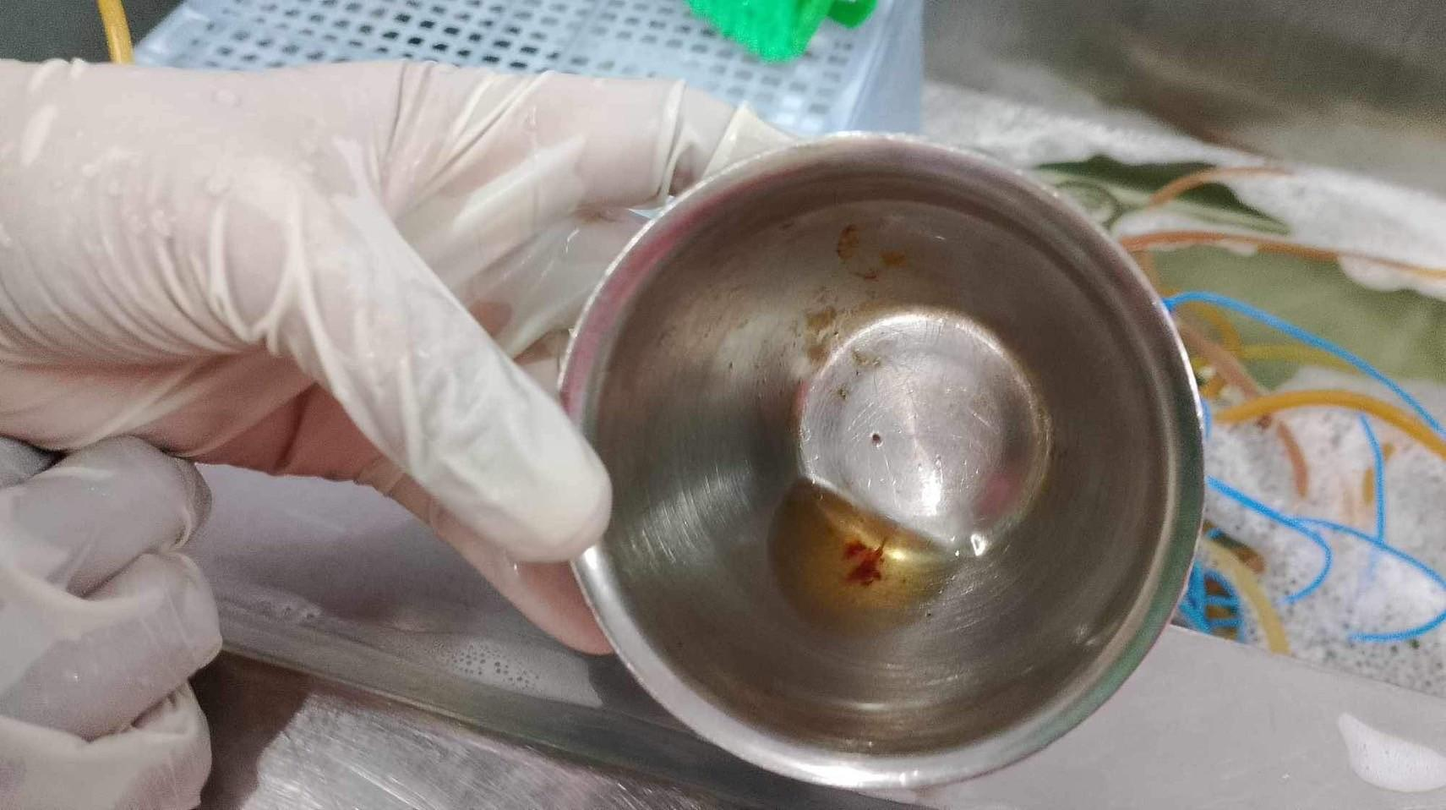General: (551, 128, 1212, 795)
Infectious: (1, 54, 799, 806)
